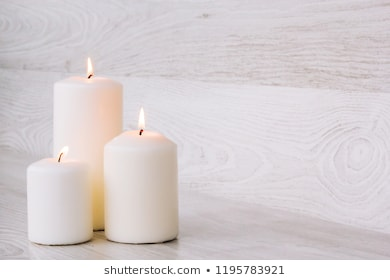Fire: (133, 106, 148, 131), (54, 144, 69, 164), (83, 57, 95, 76)
